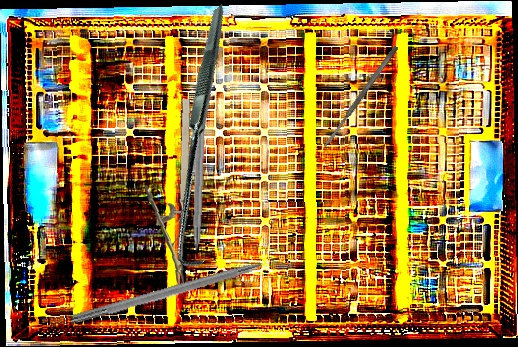Hook Surgical: (70, 3, 343, 274), (69, 251, 292, 328), (188, 66, 208, 278)
Needle Holder: (138, 96, 197, 286)
Spatula Surgical: (321, 44, 400, 149)
